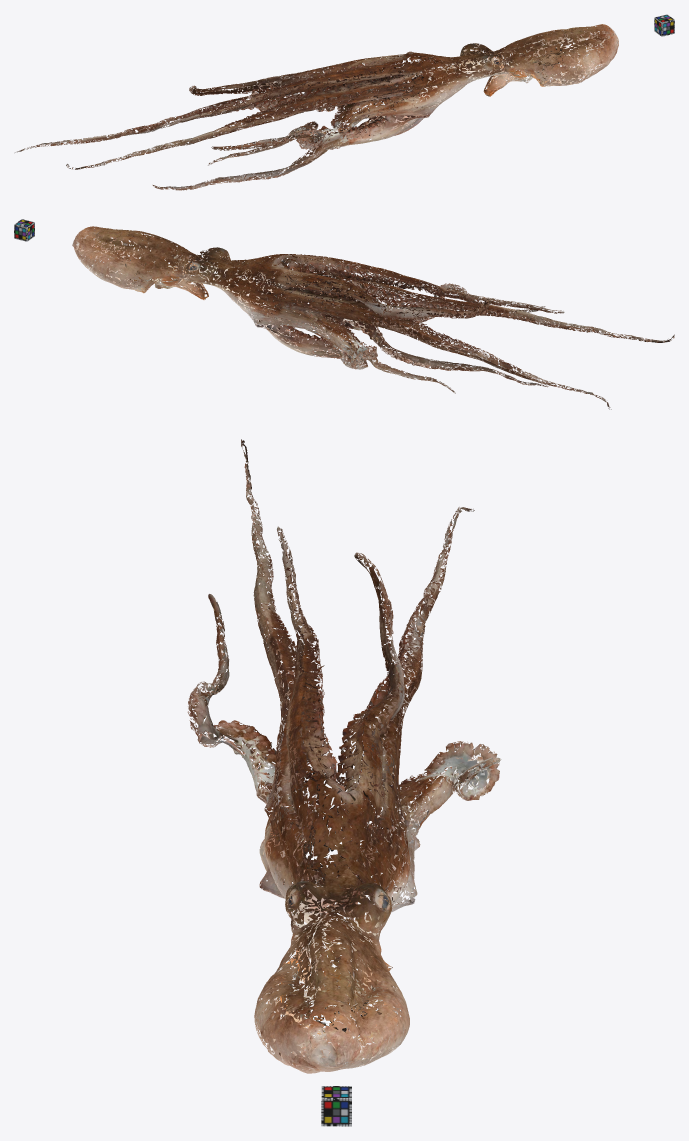
The model's file is octopus.glb.
The picture shows the model from 3 angles, top to bottom: view 1: azimuth 30°, elevation 25°; view 2: azimuth 150°, elevation 25°; view 3: azimuth 270°, elevation 25°; orthographic projection. The views are drawn at different scales.
Visible parts, largest first — view 1: Q11767-1all-3_5, Cube_2; view 2: Q11767-1all-3_5, Cube_2; view 3: Q11767-1all-3_5, Cube_2.
Part boxes in pixels (box(x1,y1,x2,y2)): Q11767-1all-3_5: box(15, 24, 618, 190); Cube_2: box(654, 14, 674, 36); Q11767-1all-3_5: box(72, 226, 674, 409); Cube_2: box(14, 219, 34, 241); Q11767-1all-3_5: box(187, 439, 501, 1073); Cube_2: box(321, 1086, 351, 1126).
Bounding box in the file's own units: 21.04 × 3.12 × 4.55.
Materials: 3 (3 with a texture image).
